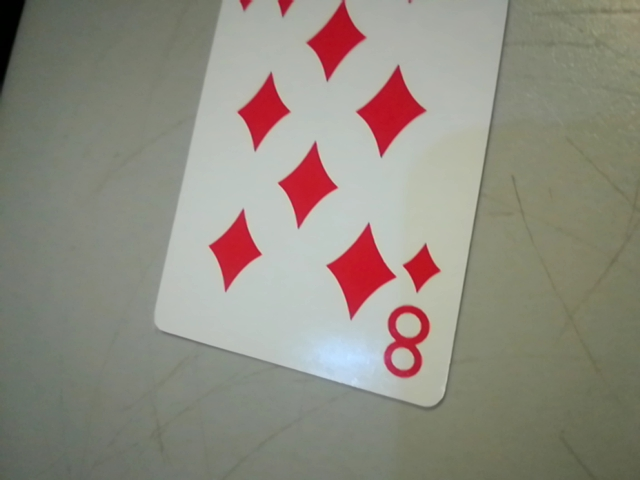fk 8: (376, 234, 447, 389)
